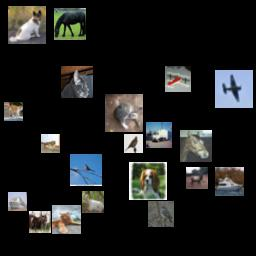airplane: (215, 70, 253, 108), (165, 66, 191, 92)
bird: (70, 154, 102, 186), (148, 201, 174, 227), (124, 134, 143, 153)
cat: (105, 94, 143, 132), (61, 66, 93, 98), (52, 205, 81, 234), (29, 211, 51, 233), (4, 102, 23, 121)
deer: (186, 167, 208, 189), (82, 191, 104, 213)
dog: (129, 162, 167, 200), (8, 6, 46, 44), (41, 134, 60, 153)
ship: (215, 167, 244, 196), (8, 192, 27, 211)
truck: (146, 122, 172, 148)
